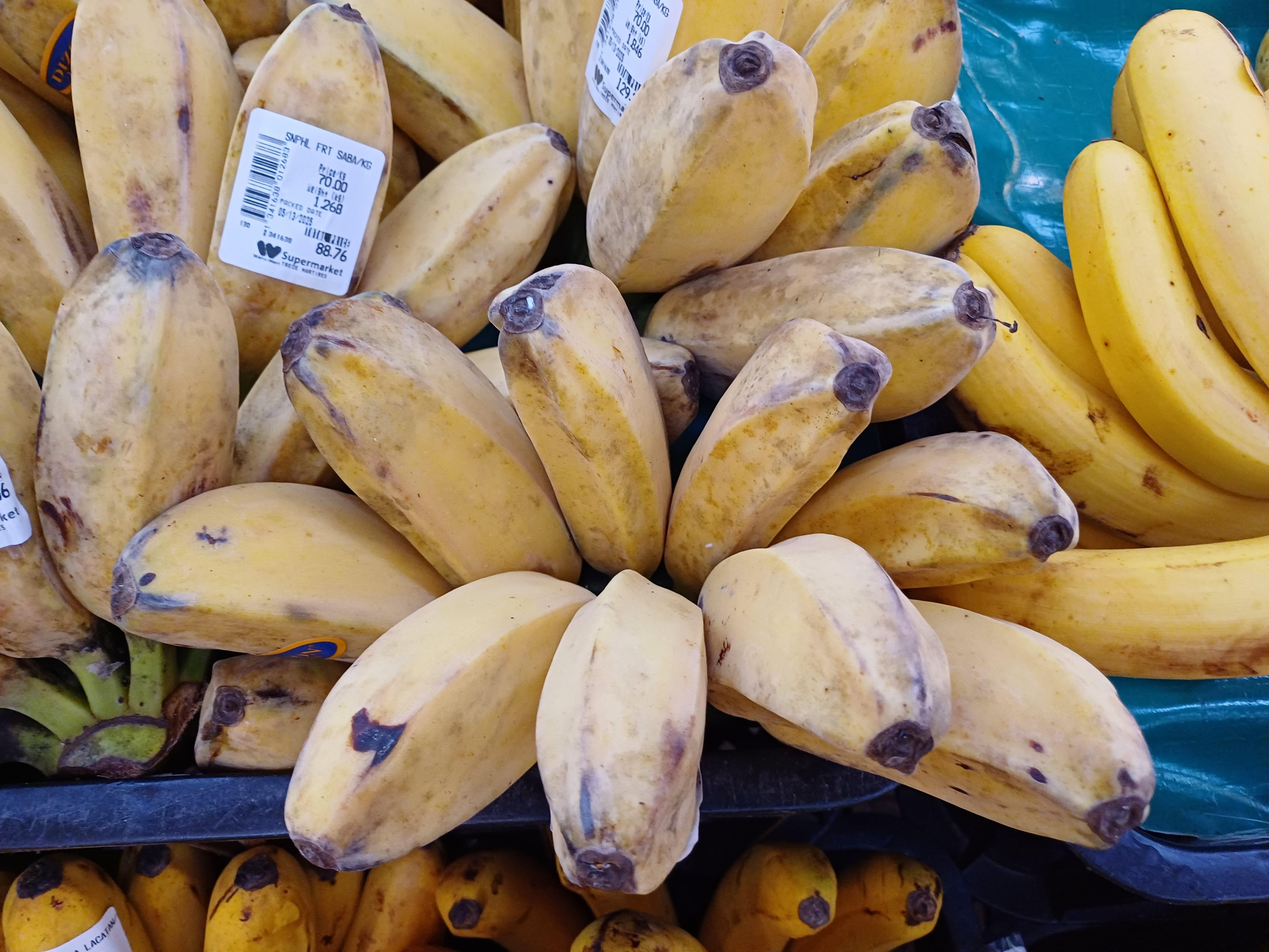ripe: (111, 263, 1157, 897), (286, 0, 997, 421), (0, 0, 577, 409), (0, 233, 362, 705)
